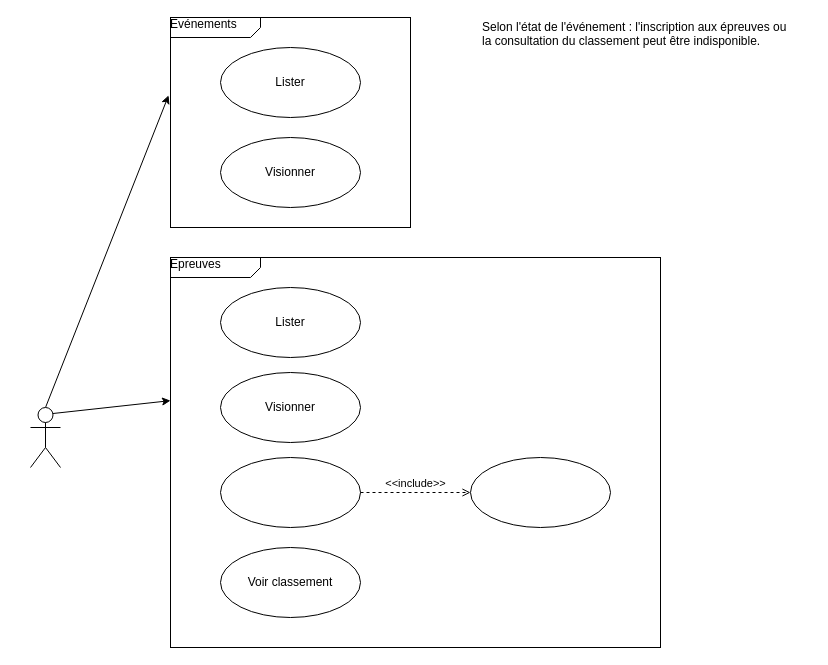
The diagram is 828 pixels wide and 665 high, and some of its shapes have lost their labels. Each missing label, with the centre of its shape:
"Générer un numéro de dossard" belongs at (x=540, y=492).
"Inscrire" belongs at (x=290, y=492).
"Participant" belongs at (x=45, y=437).
